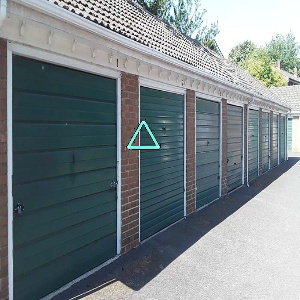triangle: (123, 118, 166, 154)
